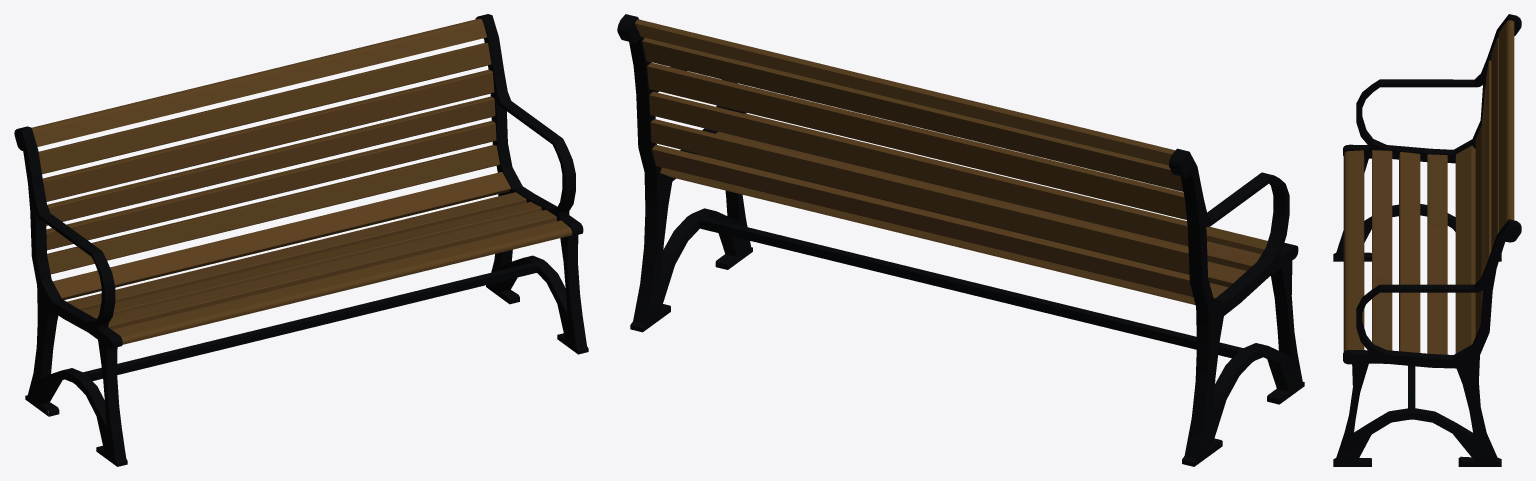
The model's file is BenchIronVinyl_Taller.glb.
3 renders of one model, left to right at view 1: azimuth 30°, elevation 25°; view 2: azimuth 150°, elevation 25°; view 3: azimuth 270°, elevation 25°, orthographic. The views are drawn at different scales.
Parts seen in each view (by area): view 1: BenchIronVinyl; view 2: BenchIronVinyl; view 3: BenchIronVinyl.
Boxes of the visible parts, x1,y1,x2,y2 form: BenchIronVinyl: (14,14,588,466); BenchIronVinyl: (617,14,1304,466); BenchIronVinyl: (1333,14,1521,466).
Size of what is drawn, in the model's own units: 1.99 by 1.07 by 0.7529.
1 material, 1 textured.
